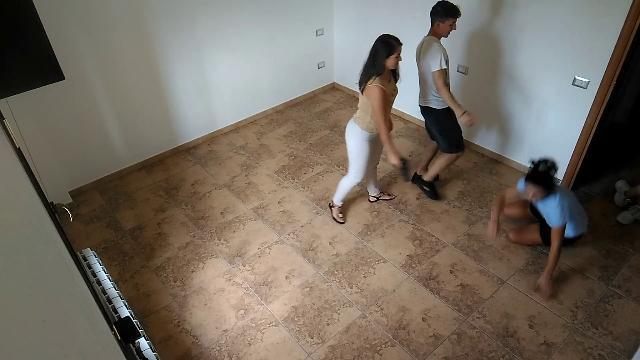non-violence: (326, 32, 412, 226), (484, 156, 590, 304), (408, 1, 478, 204), (611, 182, 640, 227)
weapon: (394, 155, 409, 183)
